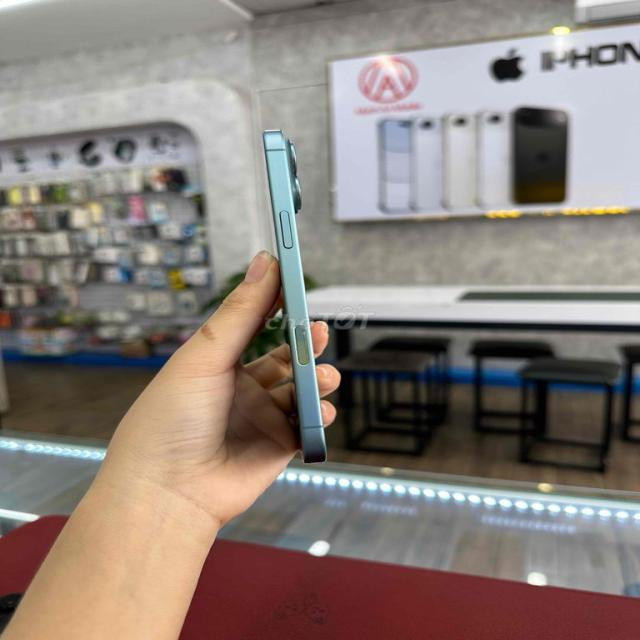gen_16: (263, 131, 326, 462)
